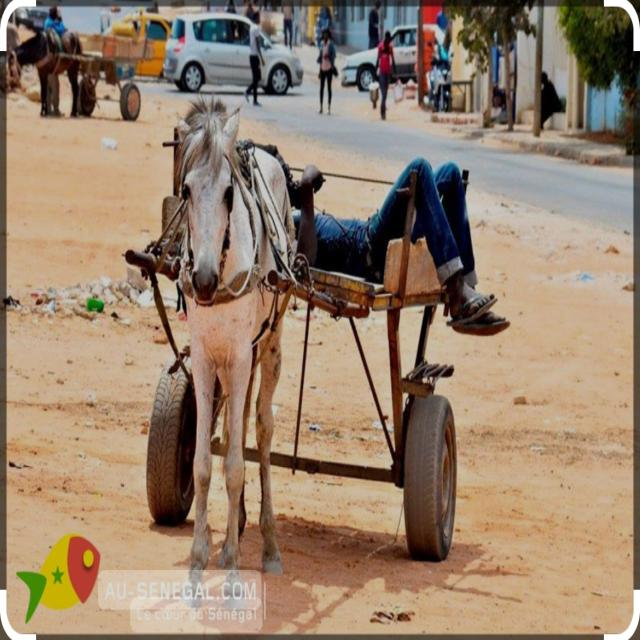charette: (127, 104, 550, 558), (16, 33, 84, 118)
particulier: (166, 16, 252, 93), (261, 33, 305, 95)
taxi: (104, 12, 172, 78)
